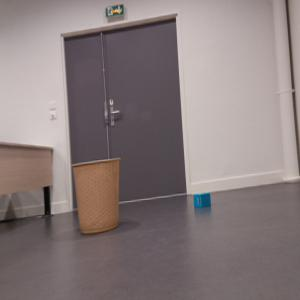medium: (73, 158, 125, 235)
small: (193, 191, 211, 209)
